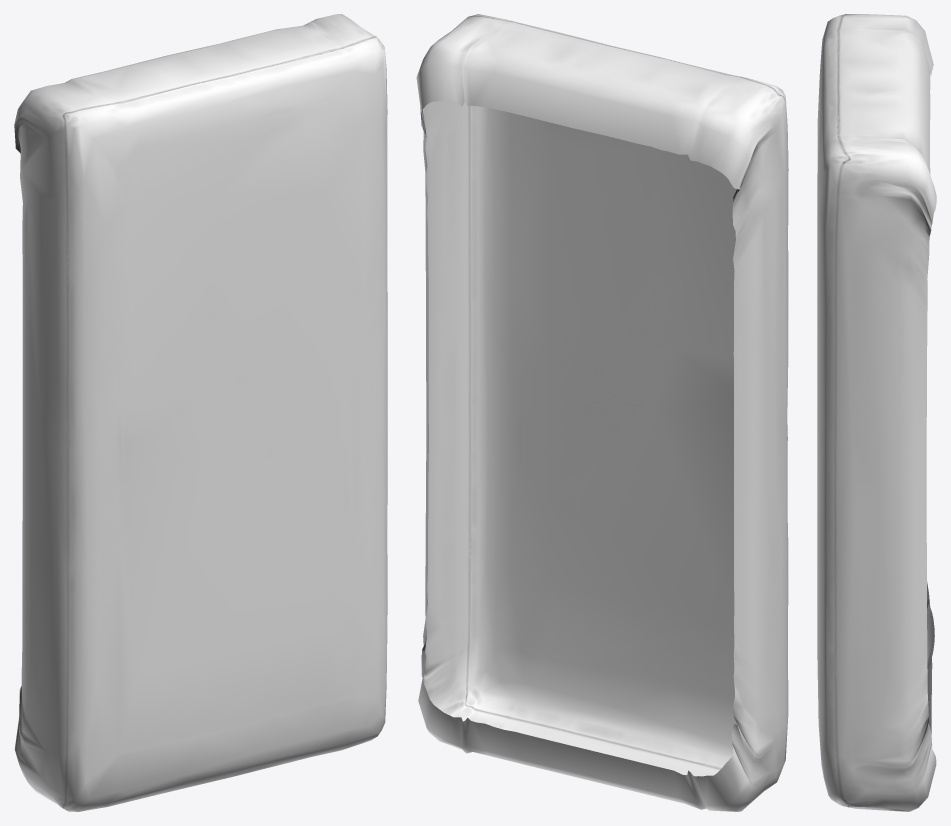
The model's file is BedMattress_26_2BedMattress_26_2_1.obj.
3 views of the same model, side by side, from view 1: azimuth 30°, elevation 25°; view 2: azimuth 150°, elevation 25°; view 3: azimuth 270°, elevation 25° (orthographic). The views are drawn at different scales.
Parts seen in each view (by area): view 1: BedMattress_26_2; view 2: BedMattress_26_2; view 3: BedMattress_26_2.
Boxes of the visible parts, x1,y1,x2,y2 form: BedMattress_26_2: (14,14,387,811); BedMattress_26_2: (416,14,788,811); BedMattress_26_2: (817,14,936,811).
Size of the model in its own units: 1.14 by 2.32 by 0.3745.
